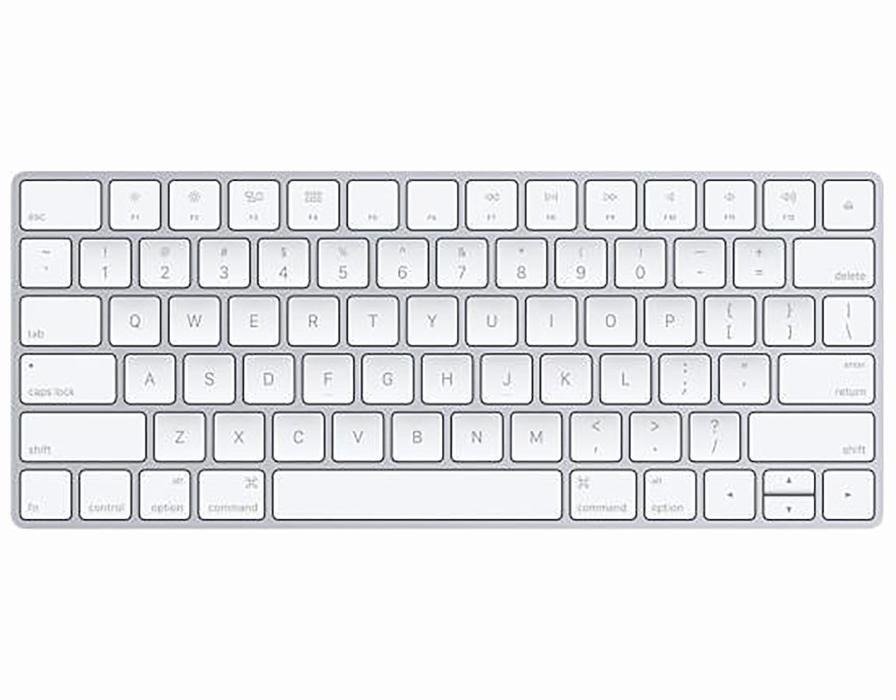keyboard: (16, 166, 881, 527)
